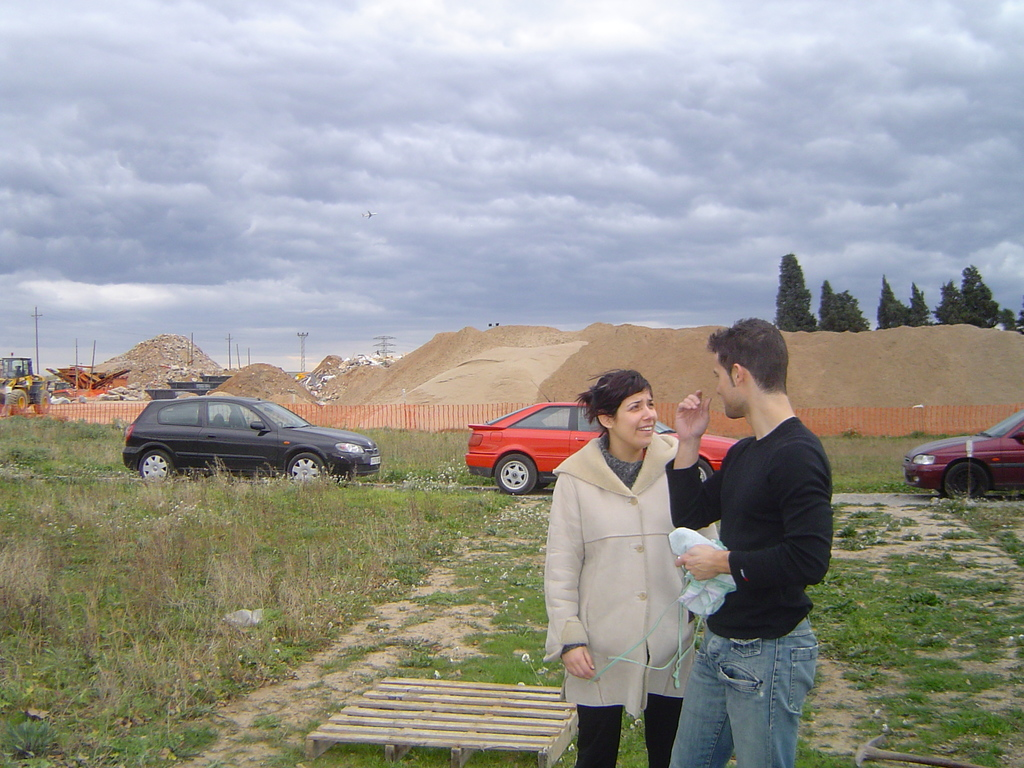mobil: (123, 393, 382, 487), (905, 401, 1024, 500)
